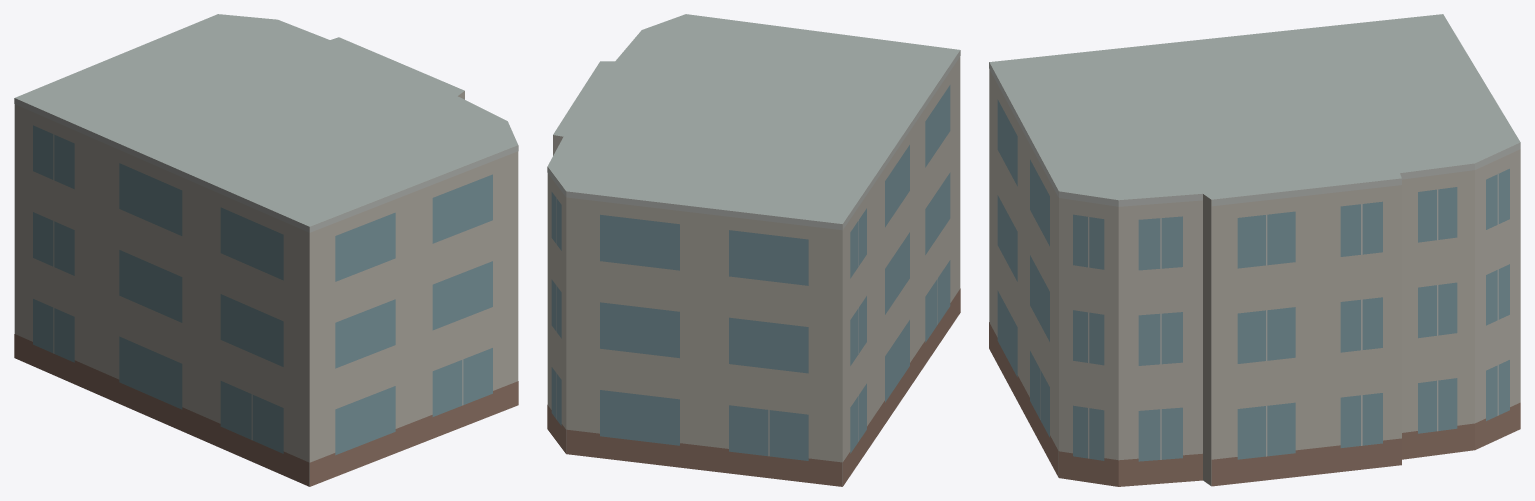
Rendered from survey-upis-32652379.glb.
3 renders of one model, left to right at view 1: azimuth 30°, elevation 25°; view 2: azimuth 150°, elevation 25°; view 3: azimuth 270°, elevation 25°, orthographic. The views are drawn at different scales.
Parts seen in each view (by area): view 1: survey-upis-32652379.tmp; view 2: survey-upis-32652379.tmp; view 3: survey-upis-32652379.tmp.
Part boxes in pixels (x1,y1,x2,y2): survey-upis-32652379.tmp: (14, 14, 518, 486); survey-upis-32652379.tmp: (547, 14, 960, 486); survey-upis-32652379.tmp: (989, 14, 1520, 486).
Size of the model in its own units: 14.63 by 10.5 by 17.65.
